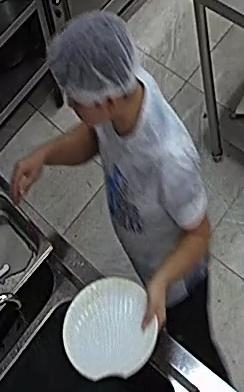no_apron: (68, 92, 195, 311)
